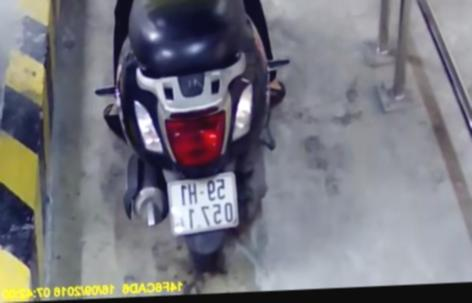License_Plate: (162, 167, 245, 240)
